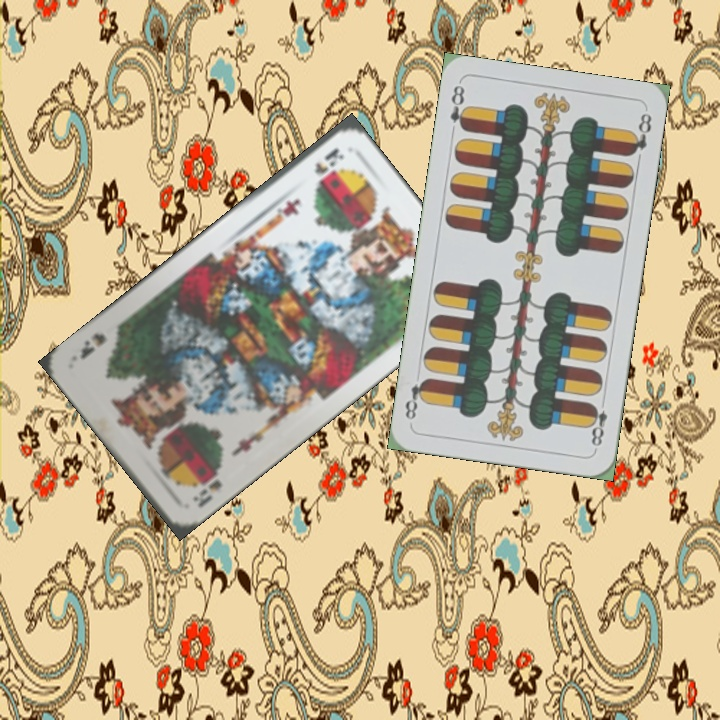E8: (585, 394, 610, 452), (446, 81, 471, 134)
SK: (188, 461, 227, 511), (310, 143, 347, 177)
